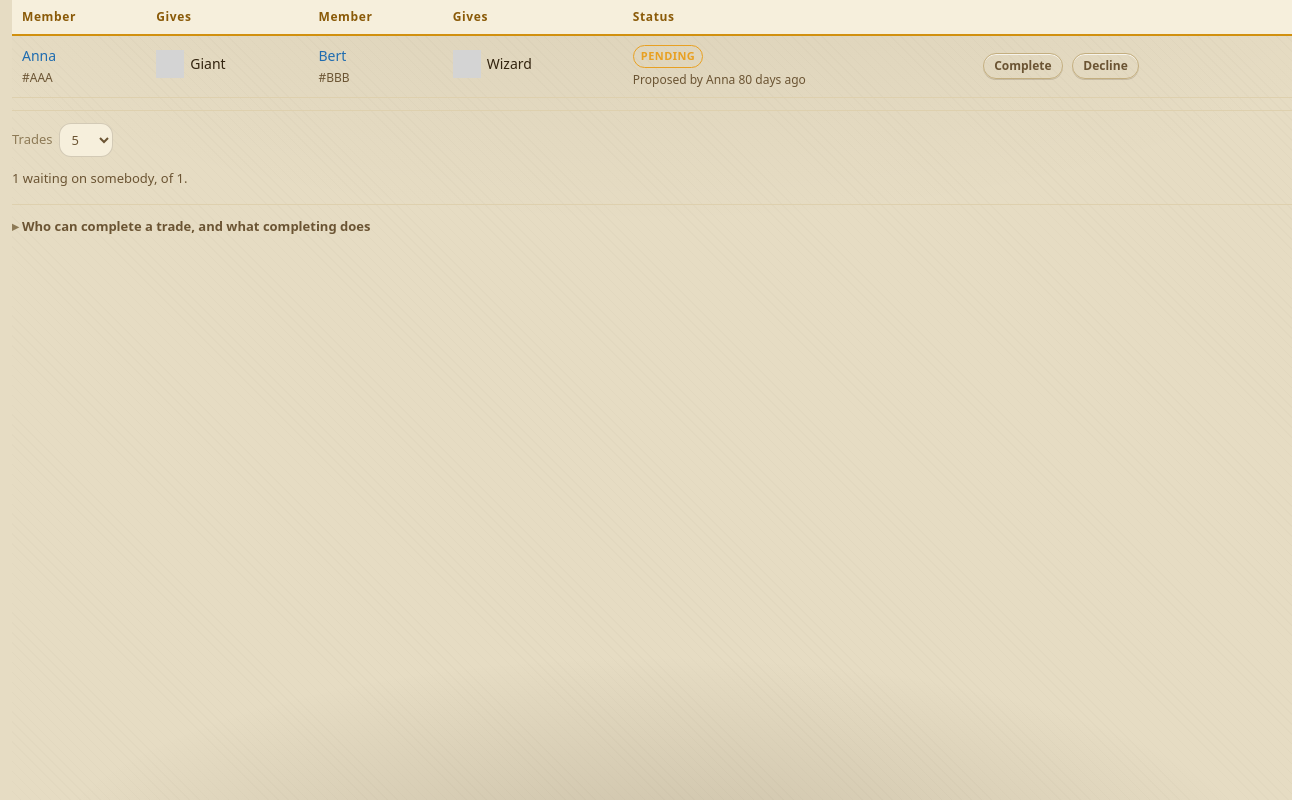
Test case: ResolveActions.act — completing a pending trade › shows the server refusal verbatim
Check: the table named "Trade tracker" is shown, box [12,0,1291,98]
Click the button "Complete" at (1023,66), box [983,53,1063,79]
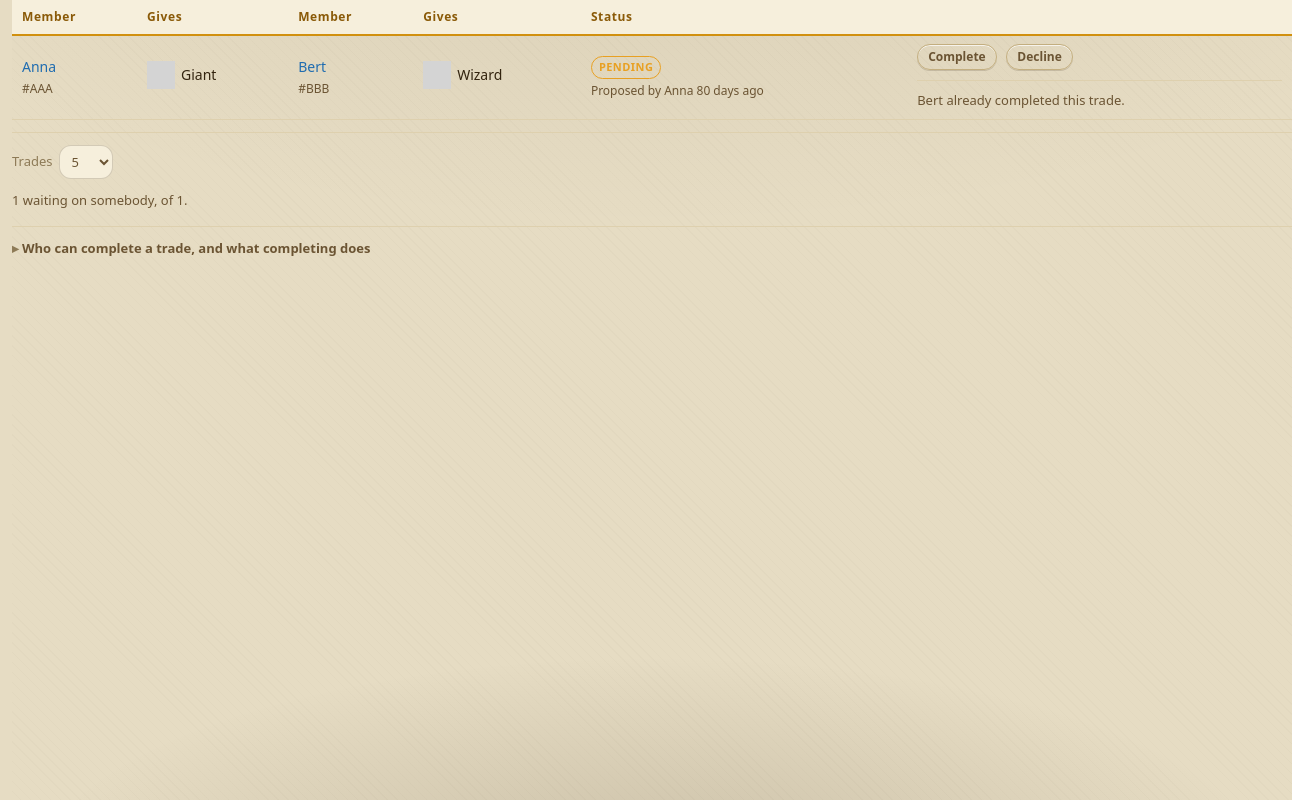
Check: the text "Bert already completed this trade." is shown, box [917,80,1282,110]
